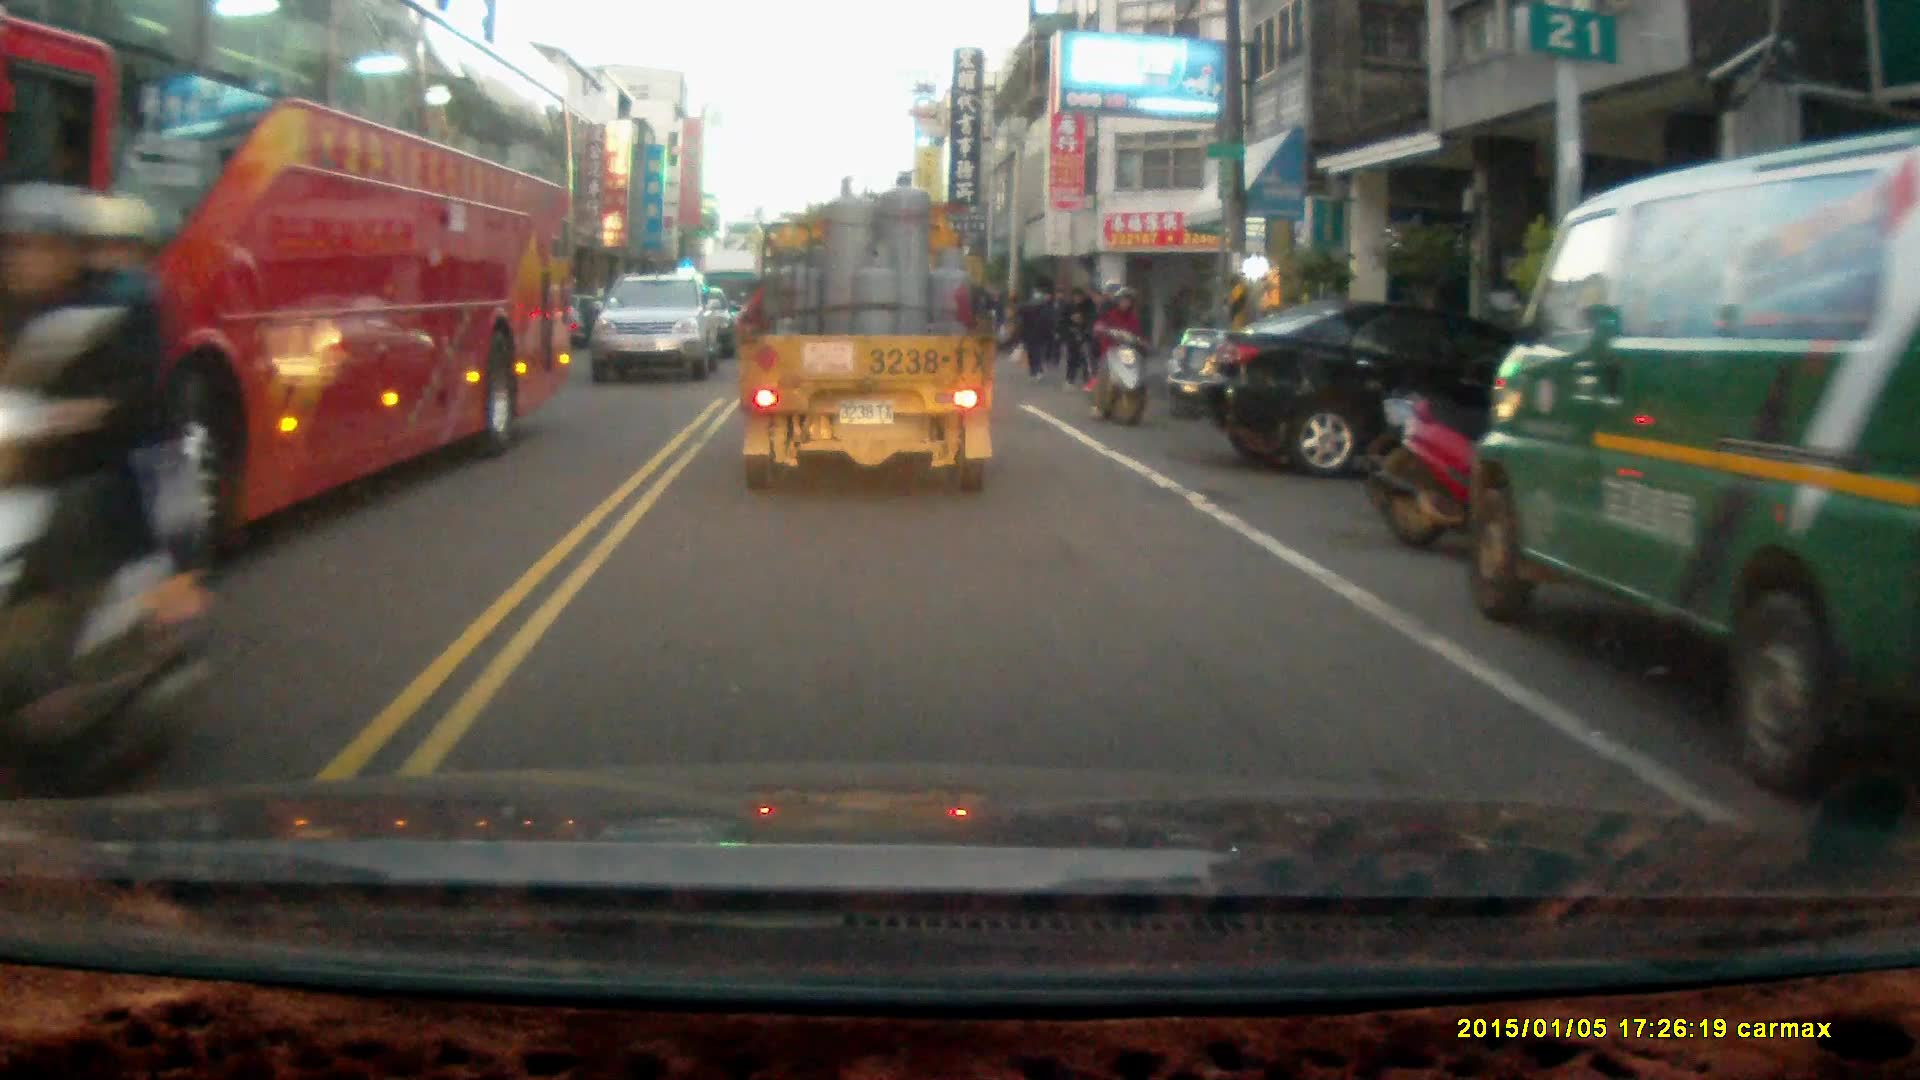pedestrian: (1057, 284, 1096, 392), (1019, 284, 1055, 374)
rider: (0, 178, 213, 854), (1088, 274, 1152, 428)
vehicle: (1, 7, 585, 640), (1464, 129, 1920, 803), (735, 166, 1002, 495), (1172, 300, 1582, 480), (596, 272, 724, 383)
